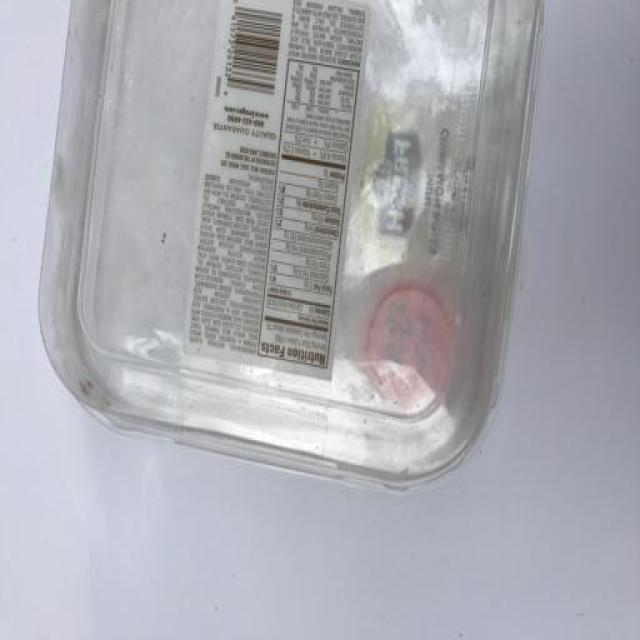plastic: (36, 0, 545, 492)
